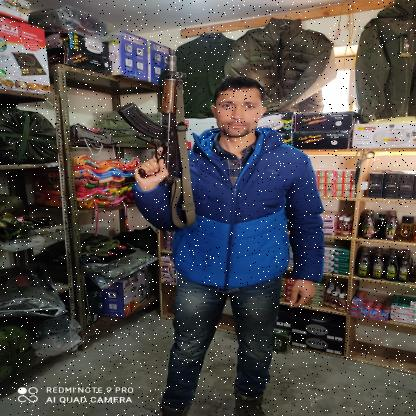rifle: (114, 48, 190, 186)
